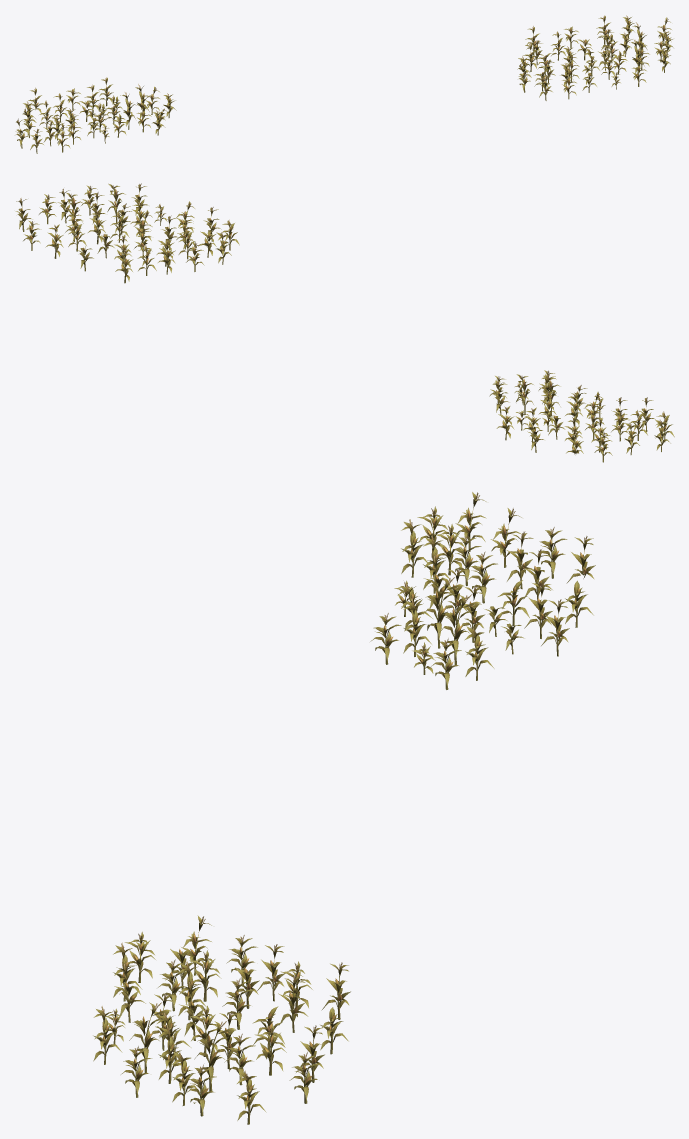
Rendered from S_Plant_Yellow001_A.FBX.
3 renders of one model, top to bottom at view 1: azimuth 30°, elevation 25°; view 2: azimuth 150°, elevation 25°; view 3: azimuth 270°, elevation 25°, orthographic. The views are drawn at different scales.
Visible parts, largest first — view 1: S_Plant_Yellow001_004, S_Plant_Yellow001_002, S_Plant_Yellow001_003, S_Plant_Yellow001_001; view 2: S_Plant_Yellow001_004, S_Plant_Yellow001_003, S_Plant_Yellow001_002, S_Plant_Yellow001_001; view 3: S_Plant_Yellow001_004, S_Plant_Yellow001_002, S_Plant_Yellow001_003, S_Plant_Yellow001_001.
Boxes of the visible parts, x1=… form: S_Plant_Yellow001_004: x1=525, y1=15, x2=673, y2=84; S_Plant_Yellow001_002: x1=22, y1=77, x2=176, y2=146; S_Plant_Yellow001_003: x1=517, y1=32, x2=670, y2=100; S_Plant_Yellow001_001: x1=15, y1=84, x2=166, y2=153; S_Plant_Yellow001_004: x1=15, y1=192, x2=197, y2=283; S_Plant_Yellow001_003: x1=57, y1=183, x2=239, y2=274; S_Plant_Yellow001_002: x1=489, y1=374, x2=647, y2=462; S_Plant_Yellow001_001: x1=492, y1=370, x2=674, y2=452; S_Plant_Yellow001_004: x1=157, y1=950, x2=350, y2=1124; S_Plant_Yellow001_002: x1=397, y1=508, x2=595, y2=689; S_Plant_Yellow001_003: x1=93, y1=915, x2=285, y2=1105; S_Plant_Yellow001_001: x1=370, y1=492, x2=552, y2=680.
Bounding box in the file's own units: 6695 × 389 × 2429.
